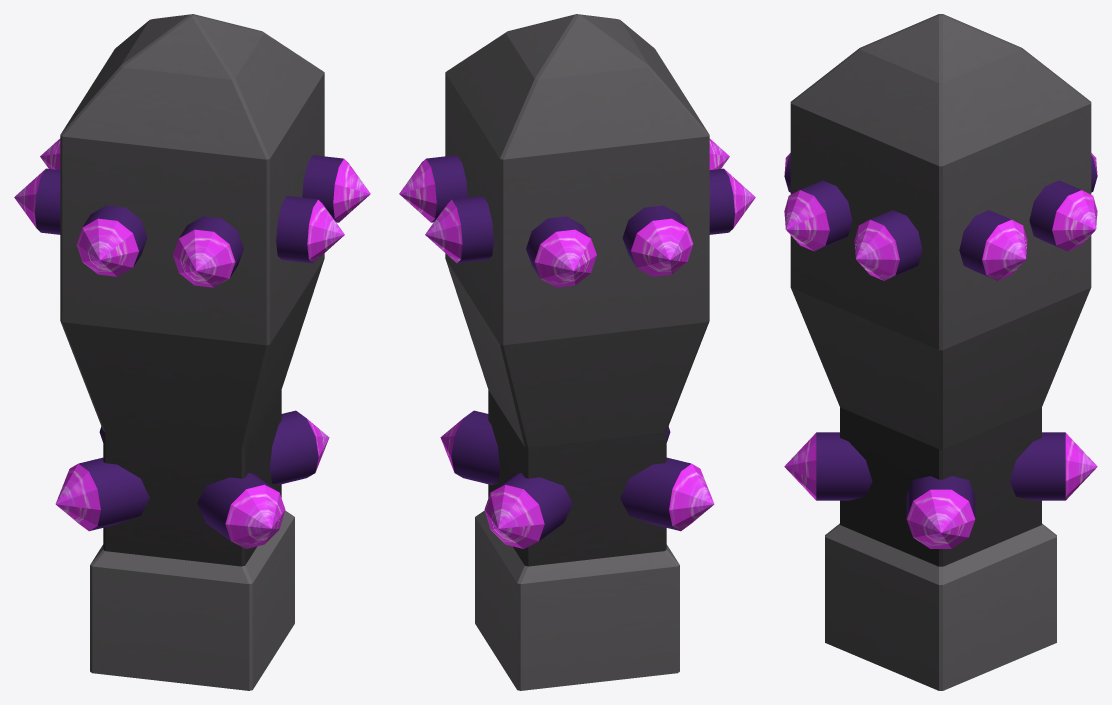
The model's file is Tall_cover.fbx.
3 views of the same model, side by side, from view 1: azimuth 30°, elevation 25°; view 2: azimuth 150°, elevation 25°; view 3: azimuth 270°, elevation 25° (orthographic).
Parts seen in each view (by area): view 1: waal_solid_9; view 2: waal_solid_9; view 3: waal_solid_9.
Part boxes in pixels (x1,y1,x2,y2): waal_solid_9: (14,14,370,690); waal_solid_9: (399,14,755,690); waal_solid_9: (784,14,1097,690).
Bounding box in the file's own units: 35.81 × 78.95 × 35.81.
